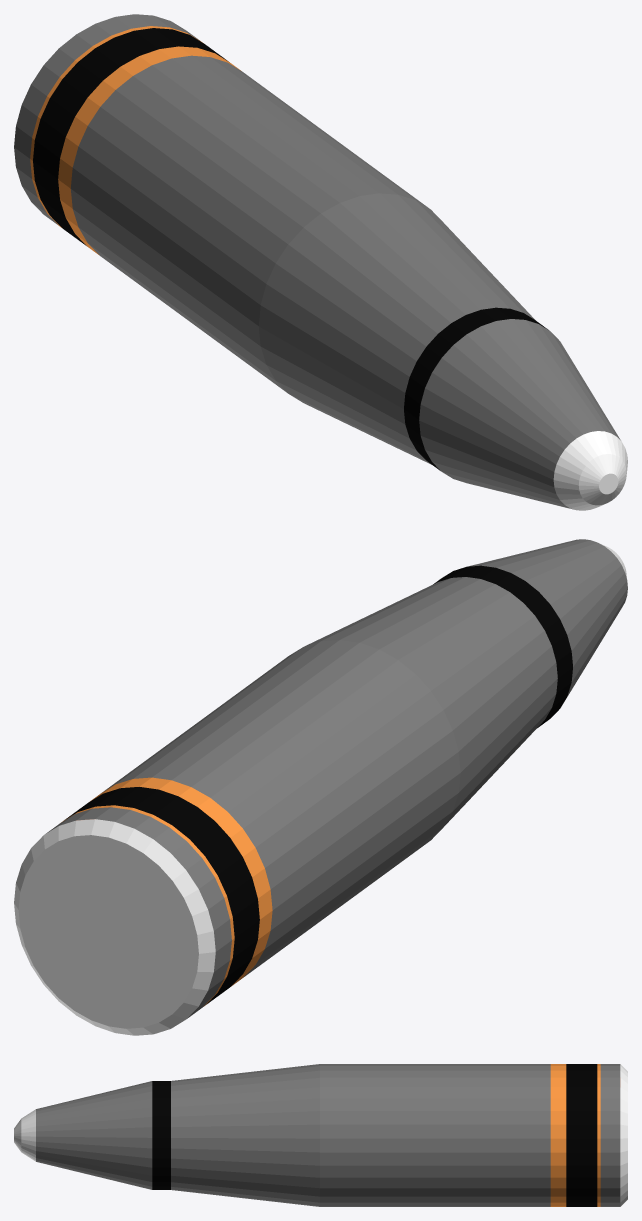
Rendered from HEShell.fbx.
3 views of the same model, one above another, from view 1: azimuth 30°, elevation 25°; view 2: azimuth 150°, elevation 25°; view 3: azimuth 270°, elevation 25° (orthographic). The views are drawn at different scales.
Visible parts, largest first — view 1: HEShell; view 2: HEShell; view 3: HEShell.
Boxes of the visible parts, left/top/right/bottom form: HEShell: left=14, top=14, right=627, bottom=510; HEShell: left=14, top=539, right=627, bottom=1035; HEShell: left=14, top=1064, right=627, bottom=1206.
Size of the model in its own units: 0.0558 by 0.0558 by 0.2396.
Materials: 1 (1 with a texture image).
